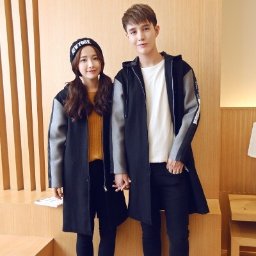face: (120, 4, 163, 56), (68, 38, 109, 85)
